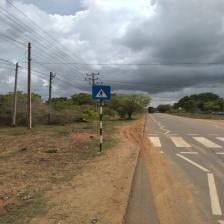blueboard: (91, 85, 111, 100)
crossing: (145, 112, 222, 223)
